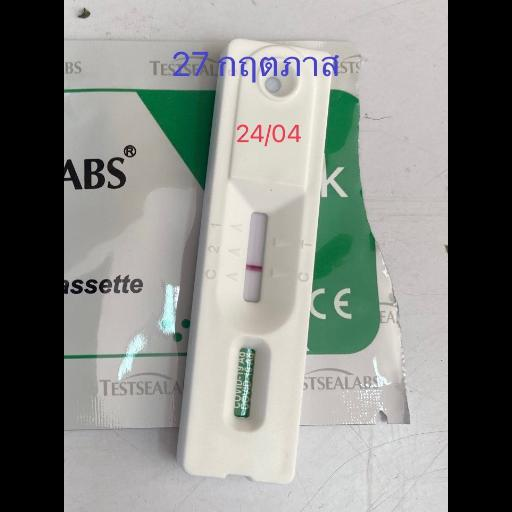Neg: (180, 36, 336, 486)
